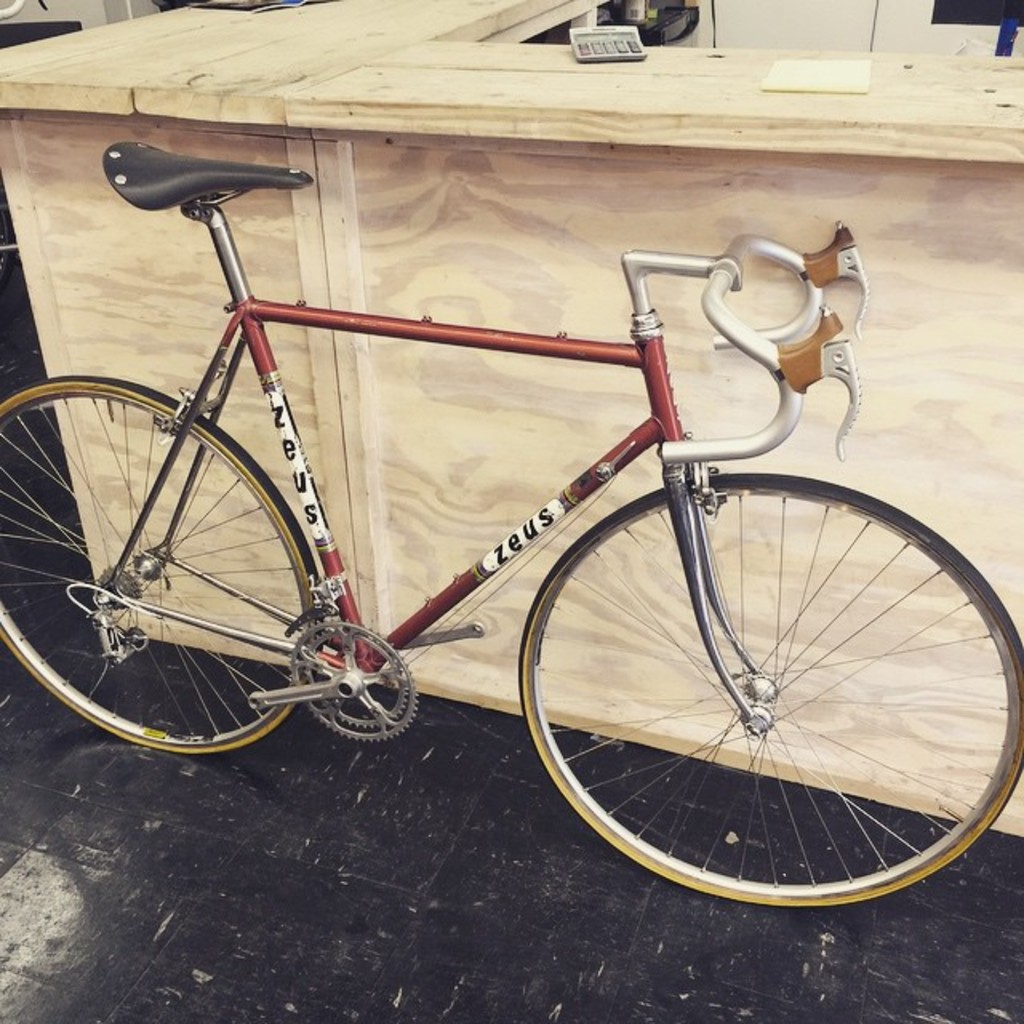Bike: (38, 161, 966, 940)
